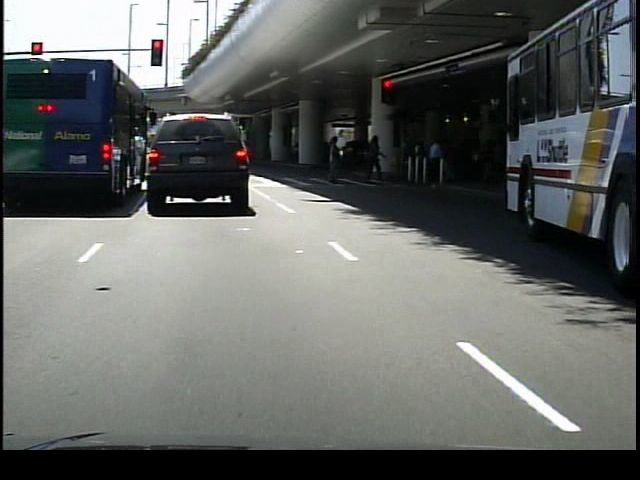person: (362, 131, 389, 186), (321, 132, 347, 186), (423, 135, 446, 192)
